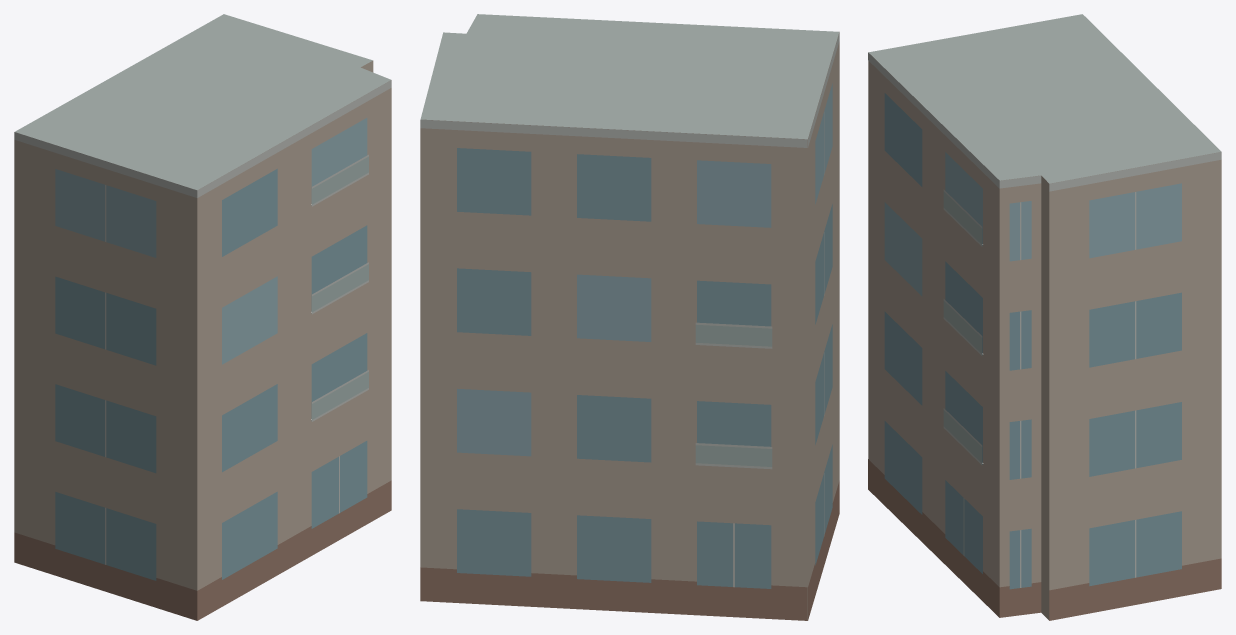
Rendered from survey-upis-33003817.glb.
3 renders of one model, left to right at view 1: azimuth 30°, elevation 25°; view 2: azimuth 150°, elevation 25°; view 3: azimuth 270°, elevation 25°, orthographic. The views are drawn at different scales.
Visible parts, largest first — view 1: survey-upis-33003817.tmp; view 2: survey-upis-33003817.tmp; view 3: survey-upis-33003817.tmp.
Part boxes in pixels (box(x1,y1,x2,y2)): survey-upis-33003817.tmp: box(14, 14, 391, 620); survey-upis-33003817.tmp: box(420, 14, 839, 620); survey-upis-33003817.tmp: box(868, 14, 1221, 620).
Bounding box in the file's own units: 11.16 × 13.4 × 9.83.
